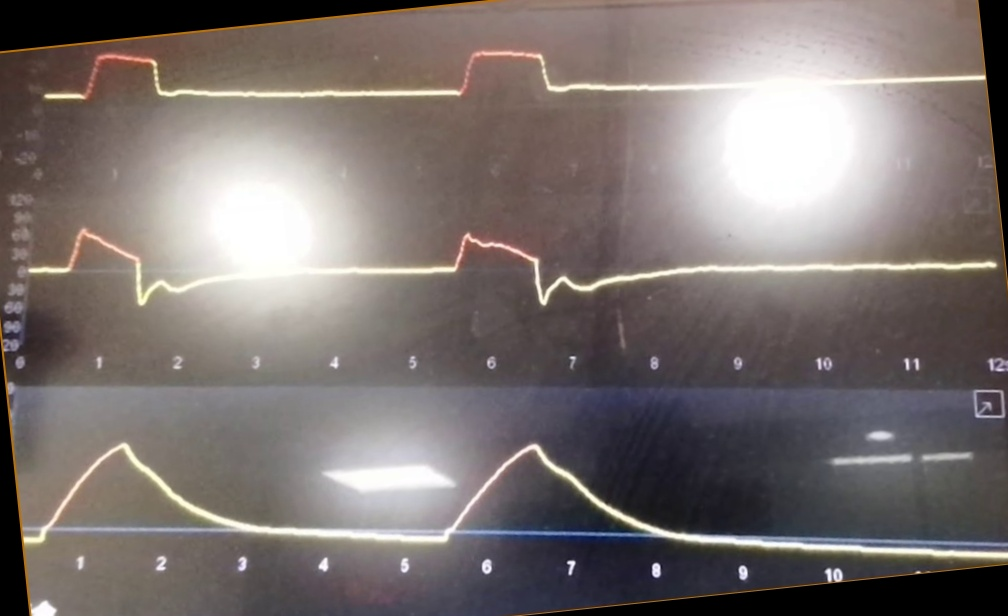Premature_cycling Flow: (35, 189, 995, 327)
Premature_cycling Volume: (29, 423, 1001, 558)
